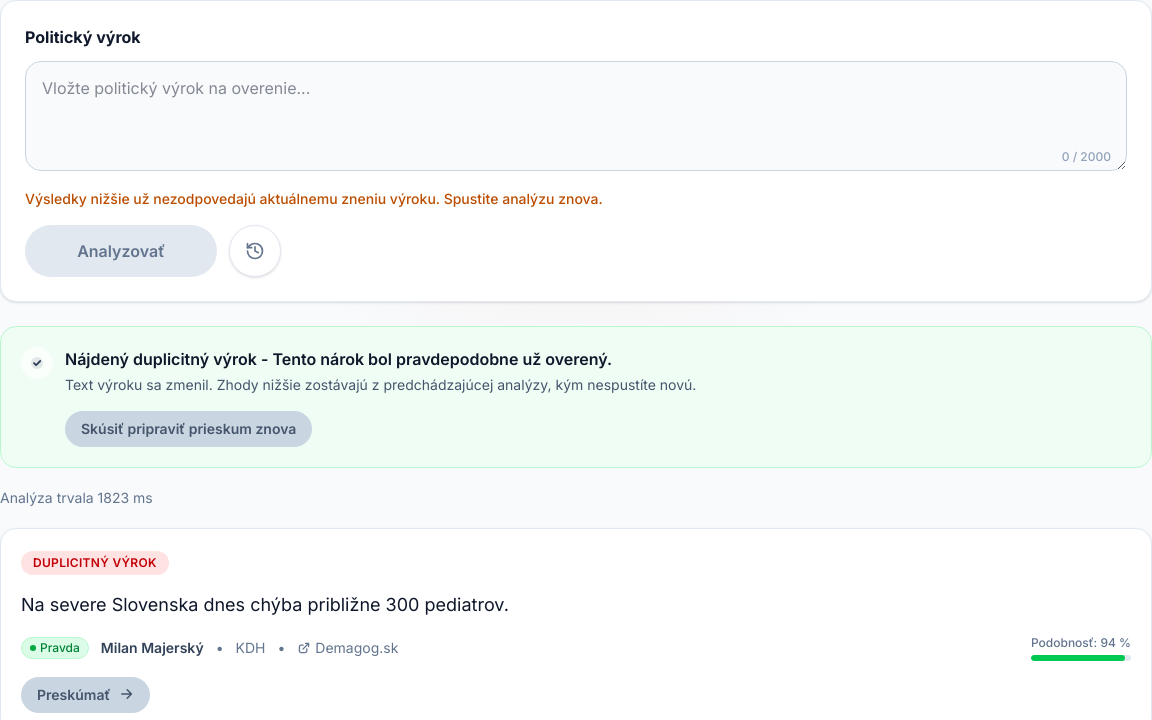
Test case: detect page flow › keeps detect results visible but marks them stale while editing
In the text box labelled "Politický výrok": (576, 116) [25,61,1127,171], type "Na severe Slovenska chýbajú asi tri stovky pediatrov."
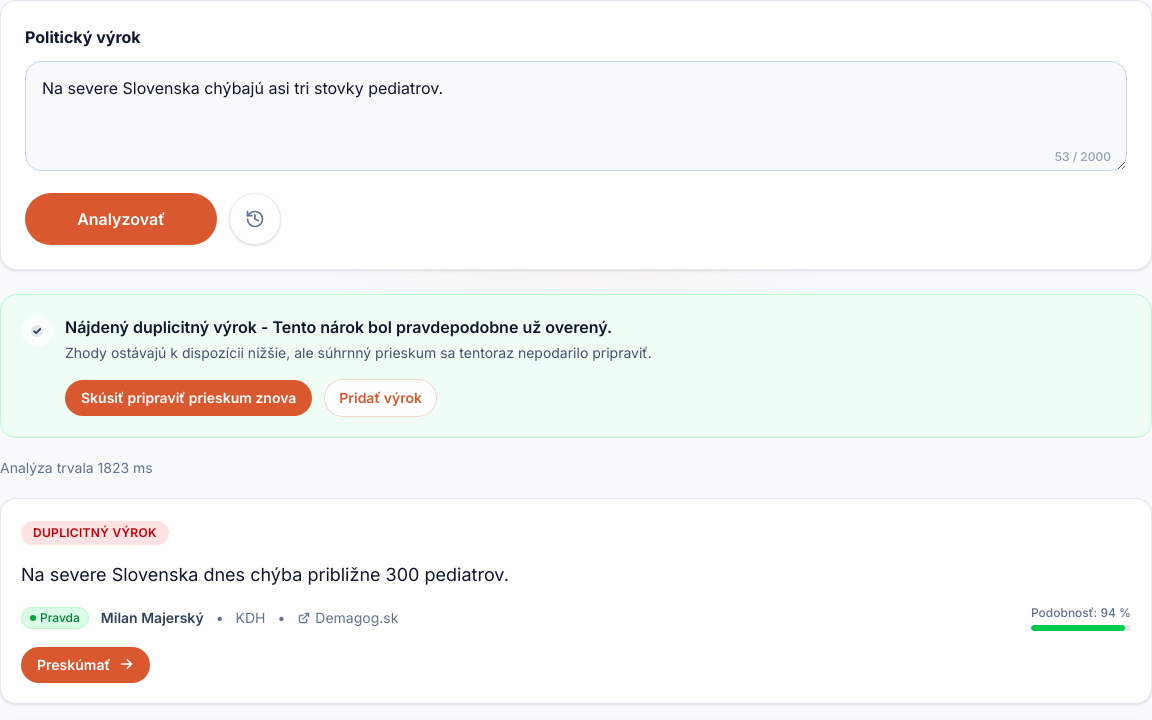
Replace the text in the text box labelled "Politický výrok" with "Upravený výrok na ďalšie porovnanie.": (576, 116) [25,61,1127,171]
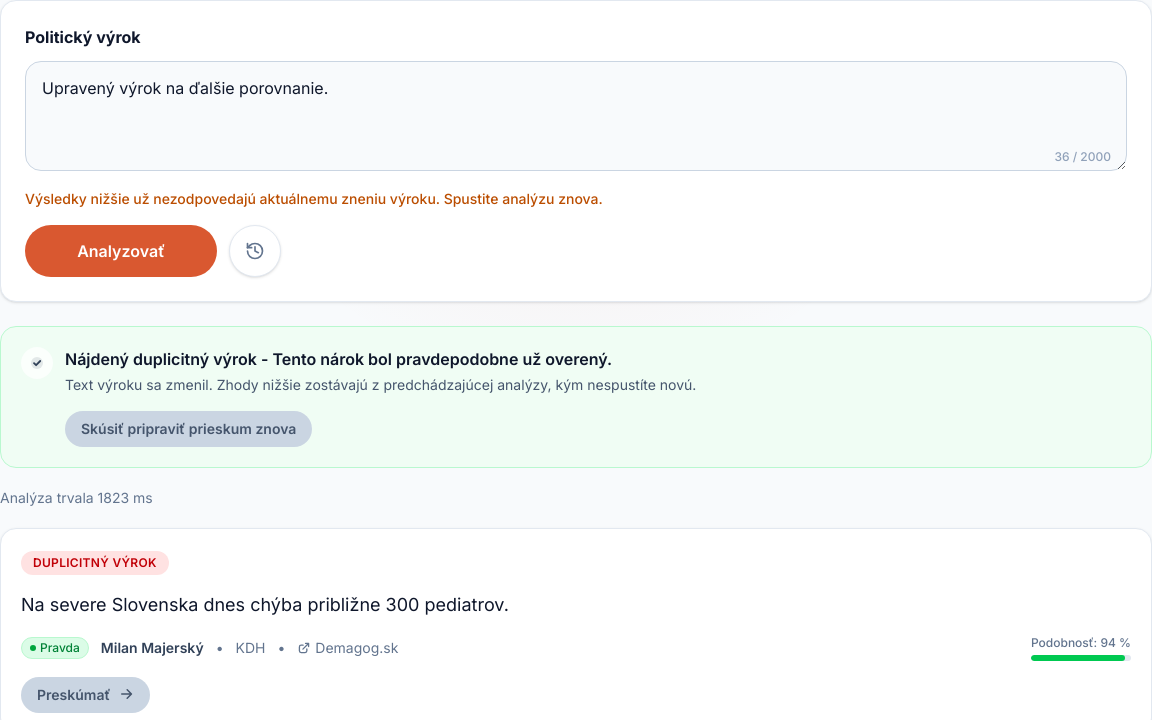
expect the heading "Nájdený duplicitný výrok" is shown: met, box [65,349,257,369]
expect the button "Analyzovať" is enabled: met, box [25,225,217,277]
expect the text "Text výroku sa zmenil" is shown: met, box [65,376,696,393]
